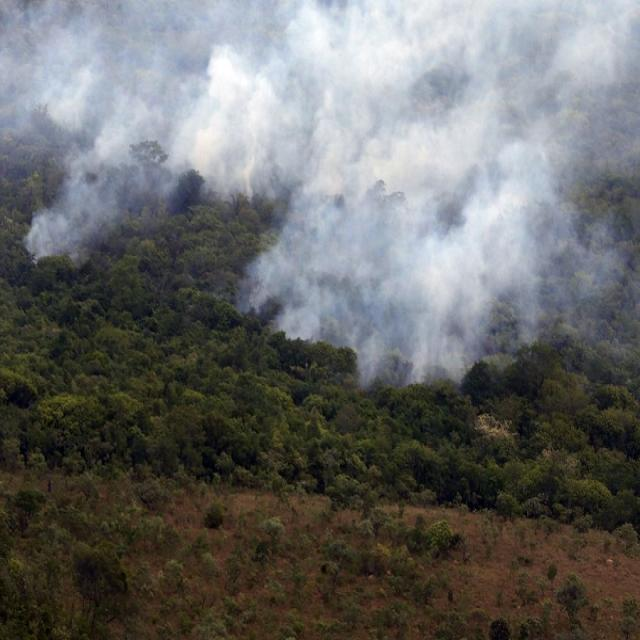smoke: (295, 13, 561, 332), (60, 22, 272, 162)
